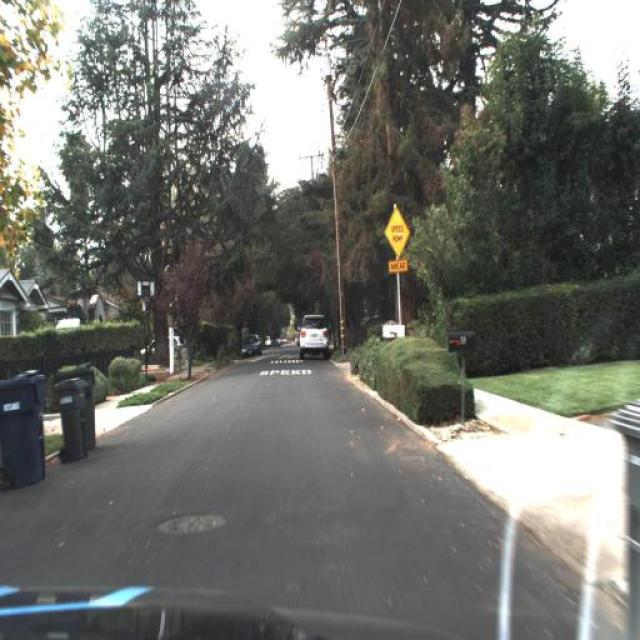car: (295, 311, 331, 358), (237, 331, 264, 363)
